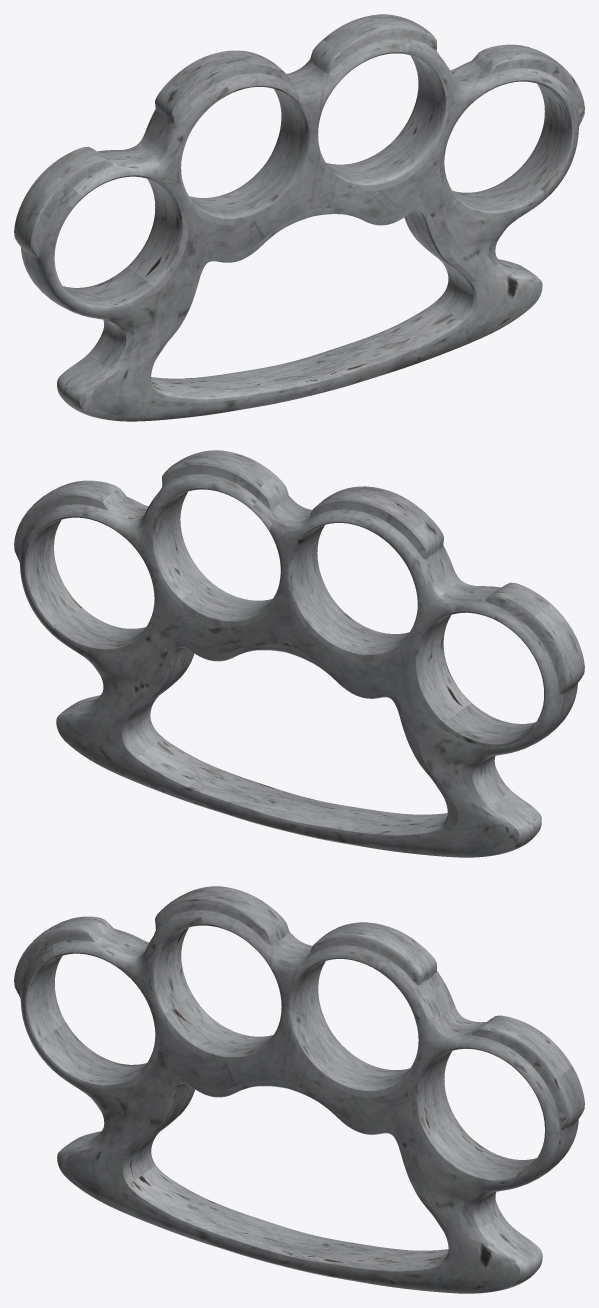
The picture shows the model from 3 angles, top to bottom: view 1: azimuth 30°, elevation 25°; view 2: azimuth 150°, elevation 25°; view 3: azimuth 330°, elevation 25°; orthographic projection.
Parts seen in each view (by area): view 1: Object_2; view 2: Object_2; view 3: Object_2.
Part boxes in pixels (left/top/right/bottom): Object_2: left=14, top=14, right=584, bottom=421; Object_2: left=14, top=450, right=584, bottom=857; Object_2: left=14, top=886, right=584, bottom=1293.
Bounding box in the file's own units: 10 × 6 × 0.8997.
Materials: 1 (1 with a texture image).
